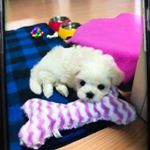puppy: (28, 42, 131, 101)
